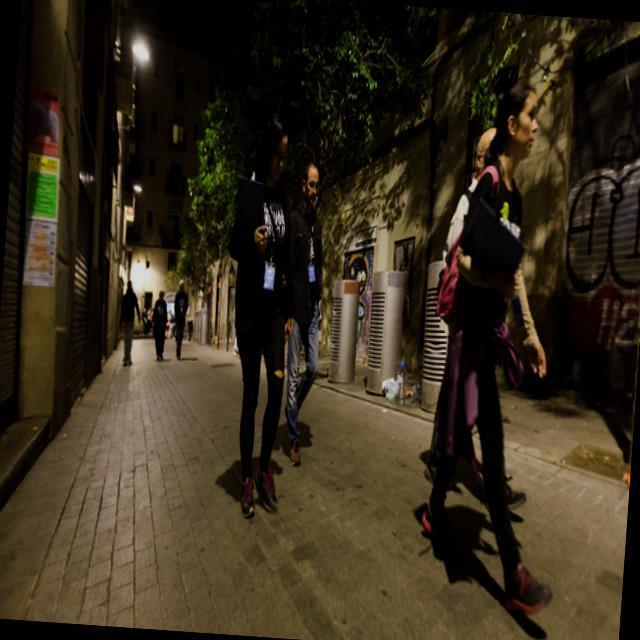person: (402, 86, 584, 620), (210, 111, 312, 528), (269, 153, 338, 471), (118, 272, 148, 372), (167, 274, 194, 366), (147, 283, 175, 364)
